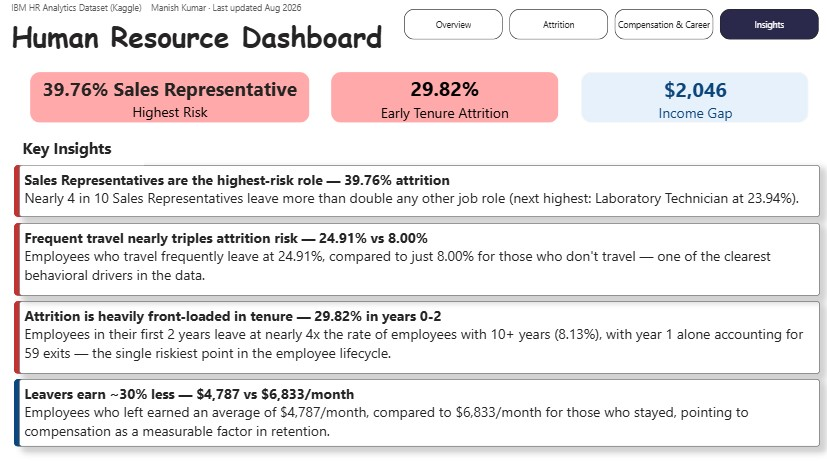

Layout of this report page (visuals, bound fields, positions):
{"tool":"powerbi","page":{"name":"Insights","canvas":[1280,720],"ordinal":3},"visuals":[{"type":"shape","box":[24,584,16,104],"z":0},{"type":"shape","box":[24,464,16,112],"z":1000},{"type":"shape","box":[24,344,16,112],"z":2000},{"type":"shape","box":[24,256,16,80],"z":3000},{"type":"textbox","box":[16,0,592,96],"z":4000},{"type":"pageNavigator","box":[624,16,640,48],"z":6000},{"type":"textbox","box":[32,256,1232,80],"z":7000},{"type":"textbox","box":[32,464,1232,112],"z":8000},{"type":"textbox","box":[32,344,1232,112],"z":9000},{"type":"textbox","box":[32,584,1232,104],"z":10000},{"type":"textbox","box":[32,208,192,48],"z":11000},{"type":"cardVisual","fields":{"Data":["HR_Analytics.Top Attrition Role Combined"]},"box":[32,96,464,112],"z":11001},{"type":"cardVisual","fields":{"Data":["HR_Analytics.Early Tenure Attrition"]},"box":[496,96,384,112],"z":11002},{"type":"cardVisual","fields":{"Data":["HR_Analytics.Income Gap"]},"box":[880,96,384,112],"z":11003}]}

Visuals, with their boxes in screenshot pixels (x1, y1, x2, y2), scaled from the page's 1280x720 canvas onto the 827x465 screenshot:
shape: [16,377,26,444]
shape: [16,300,26,372]
shape: [16,222,26,294]
shape: [16,165,26,217]
textbox: [10,0,393,62]
pageNavigator: [403,10,817,41]
textbox: [21,165,817,217]
textbox: [21,300,817,372]
textbox: [21,222,817,294]
textbox: [21,377,817,444]
textbox: [21,134,145,165]
cardVisual - HR_Analytics.Top Attrition Role Combined: [21,62,320,134]
cardVisual - HR_Analytics.Early Tenure Attrition: [320,62,569,134]
cardVisual - HR_Analytics.Income Gap: [569,62,817,134]
